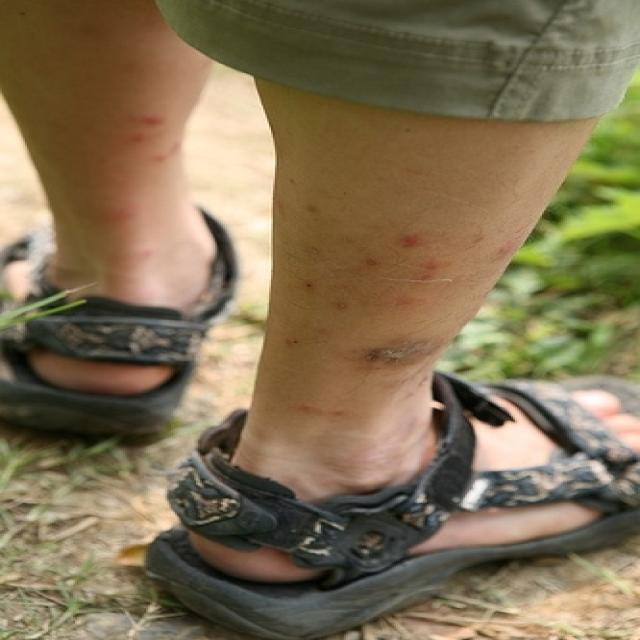piel: (186, 73, 638, 585), (0, 0, 224, 394)
